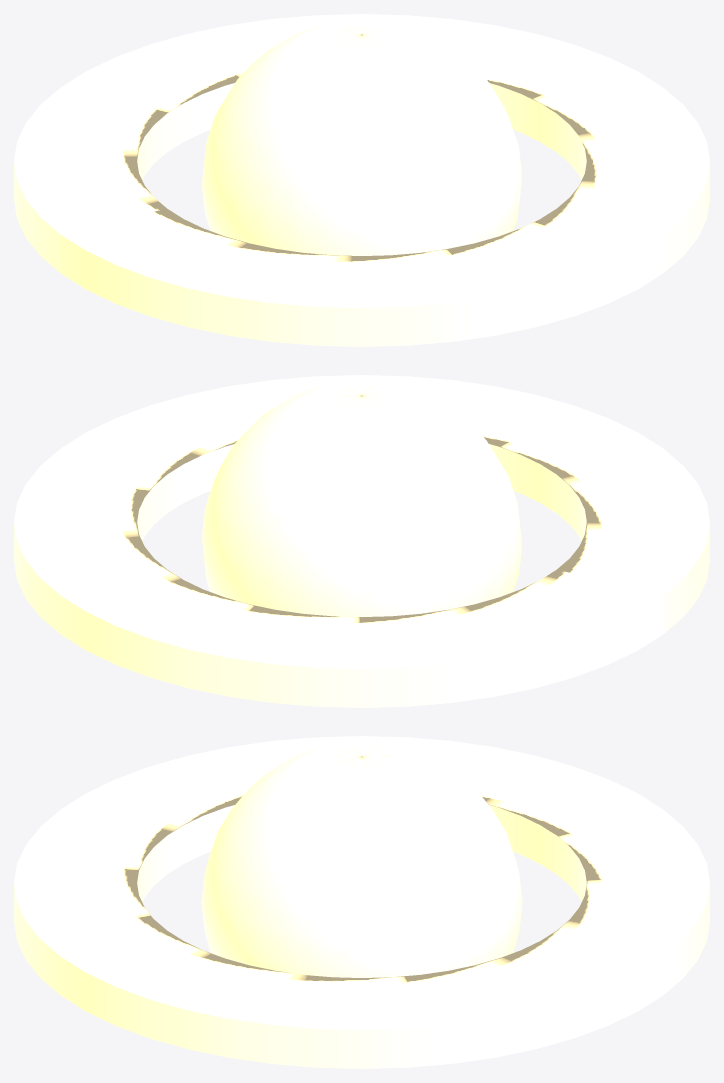
File: item-6-10.glb
3 views of the same model, one above another, from view 1: azimuth 30°, elevation 25°; view 2: azimuth 150°, elevation 25°; view 3: azimuth 270°, elevation 25° (orthographic).
Visible parts, largest first — view 1: plat, planet; view 2: plat, planet; view 3: plat, planet.
Boxes of the visible parts, left/top/right/bottom form: plat: left=14, top=14, right=709, bottom=346; planet: left=202, top=20, right=521, bottom=255; plat: left=14, top=375, right=709, bottom=707; planet: left=202, top=381, right=521, bottom=616; plat: left=14, top=736, right=709, bottom=1068; planet: left=201, top=742, right=522, bottom=977.
Bounding box in the file's own units: 1.3 × 0.6 × 1.3.
2 materials, 2 textured.
